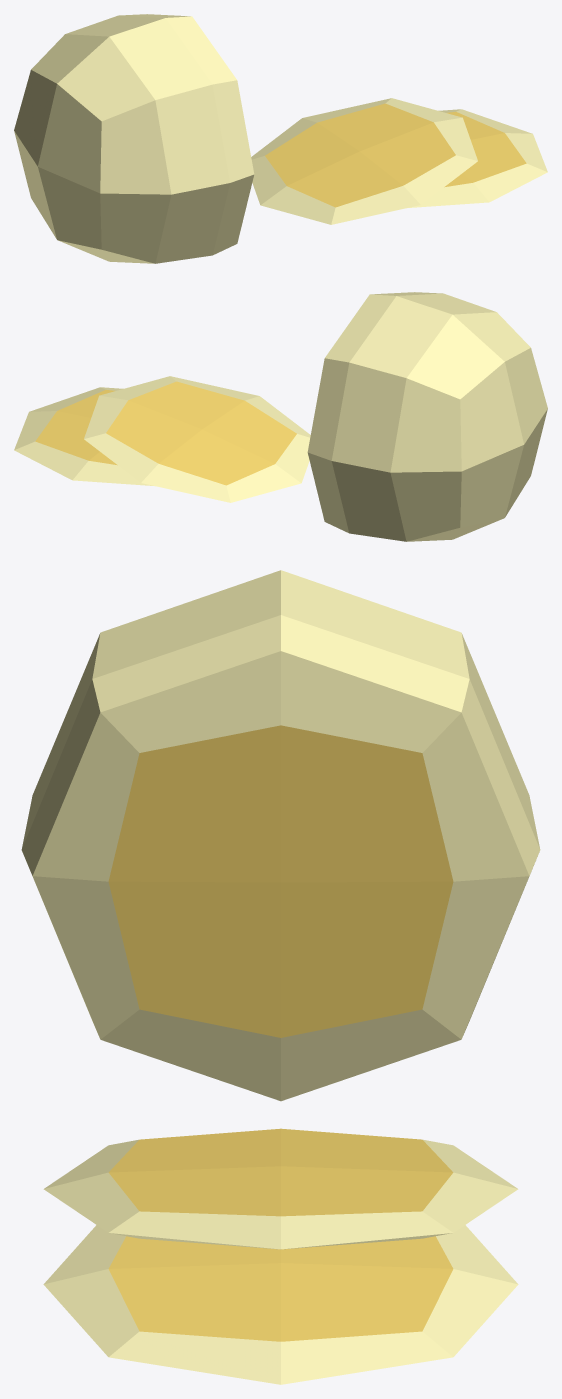
The model's file is Cutting Board Onions.fbx.
The picture shows the model from 3 angles, top to bottom: view 1: azimuth 30°, elevation 25°; view 2: azimuth 150°, elevation 25°; view 3: azimuth 270°, elevation 25°; orthographic projection. The views are drawn at different scales.
Parts seen in each view (by area): view 1: Cutting Board Onions; view 2: Cutting Board Onions; view 3: Cutting Board Onions.
Boxes of the visible parts, x1=… form: Cutting Board Onions: x1=14, y1=14, x2=547, y2=263; Cutting Board Onions: x1=14, y1=292, x2=547, y2=541; Cutting Board Onions: x1=21, y1=570, x2=540, y2=1384.
Bounding box in the file's own units: 34.14 × 15.49 × 15.49.
